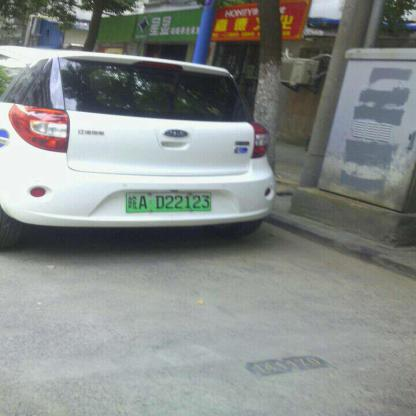lp: (126, 192, 210, 212)
